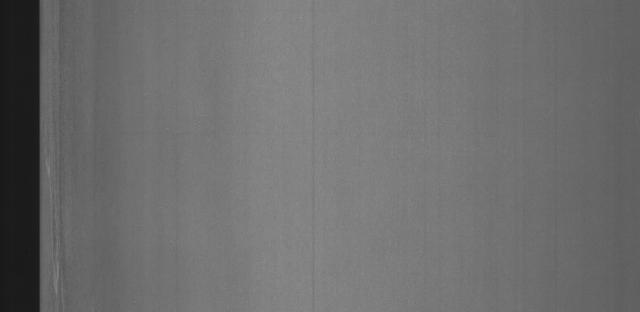silk_spot: (44, 151, 90, 297)
